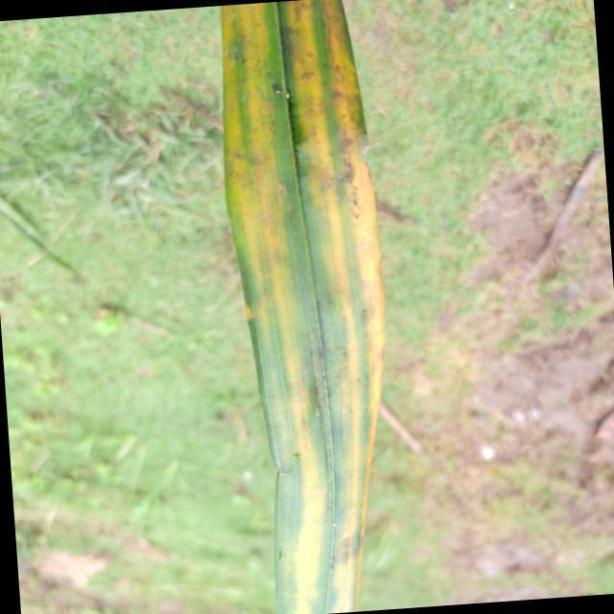Megnesium: (218, 0, 390, 614)
